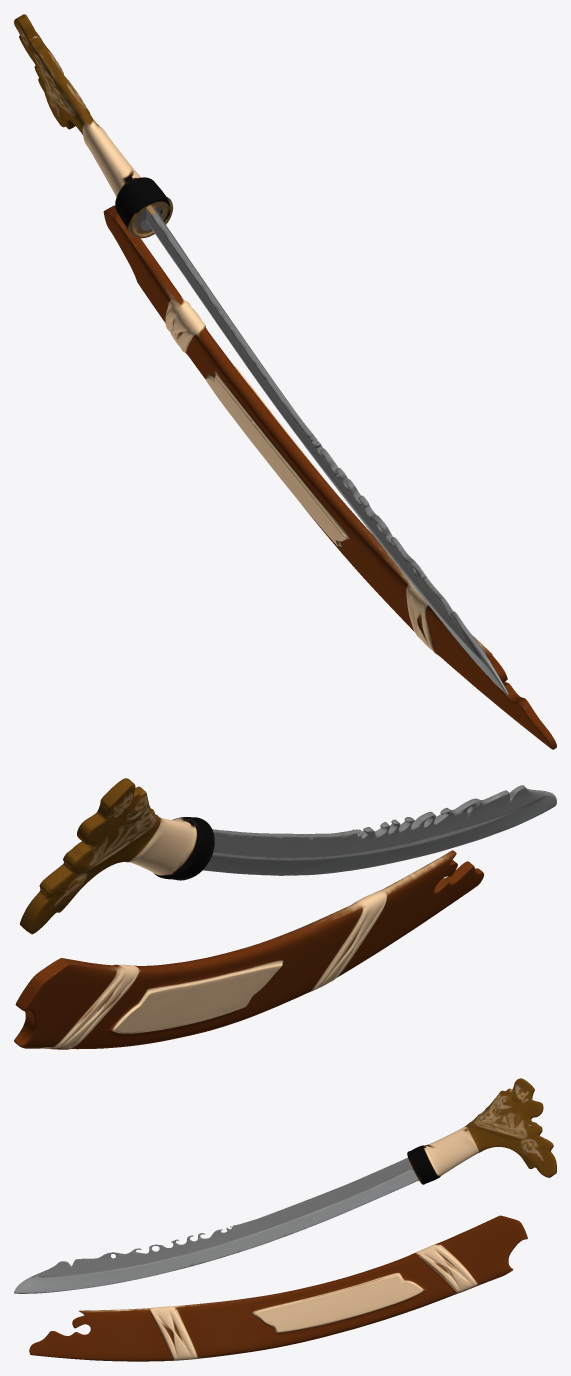
Rendered from Mandau.glb.
3 views of the same model, one above another, from view 1: azimuth 30°, elevation 25°; view 2: azimuth 150°, elevation 25°; view 3: azimuth 270°, elevation 25° (orthographic). The views are drawn at different scales.
Visible parts, largest first — view 1: node_0; view 2: node_0; view 3: node_0.
Part boxes in pixels (x1,y1,x2,y2): node_0: [14, 14, 556, 749]; node_0: [14, 778, 556, 1049]; node_0: [14, 1078, 556, 1361].
Bounding box in the file's own units: 0.1732 × 0.5773 × 1.12.
Materials: 1 (1 with a texture image).
